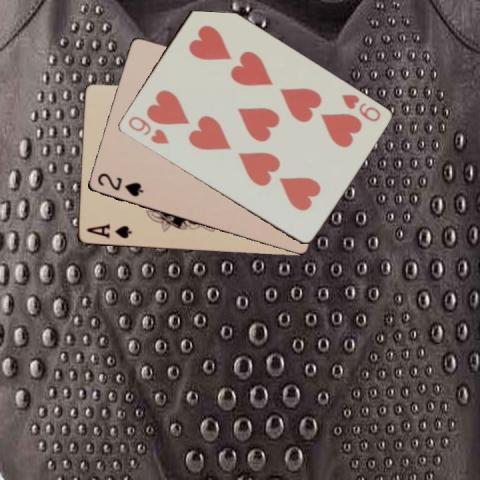2s: (94, 170, 145, 199)
9h: (125, 113, 170, 146), (338, 91, 382, 123)
As: (83, 221, 133, 240)
